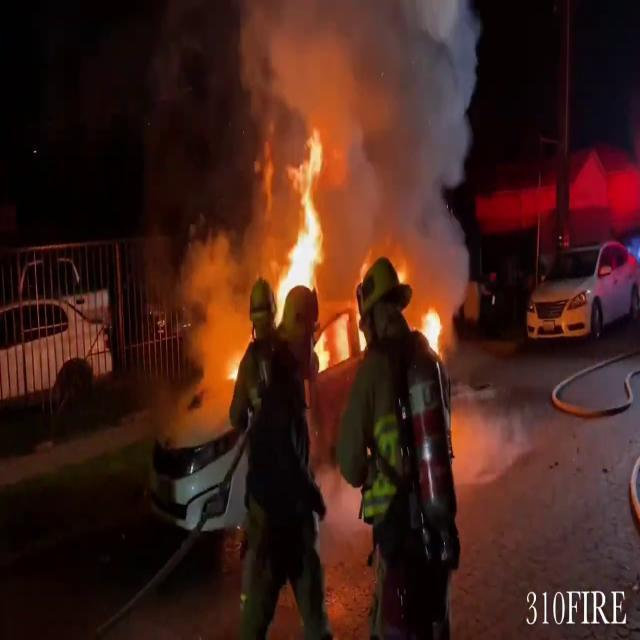Fire: (270, 124, 352, 363), (420, 300, 446, 360)
Smoke: (308, 0, 486, 312)
